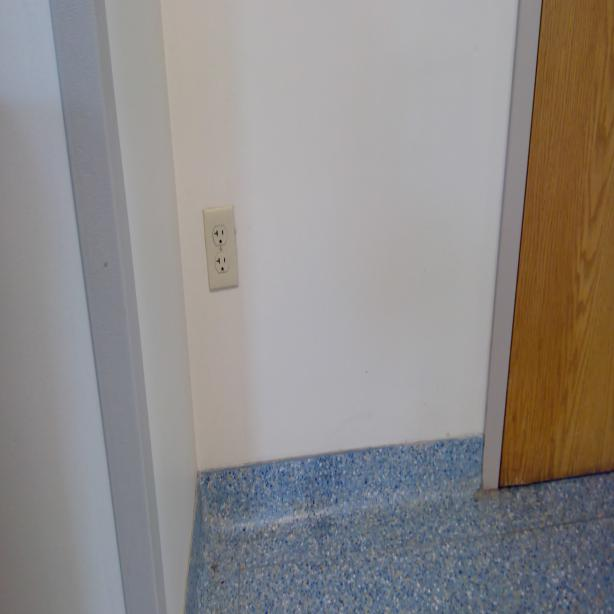typeb: (213, 227, 226, 246), (216, 254, 229, 272)
